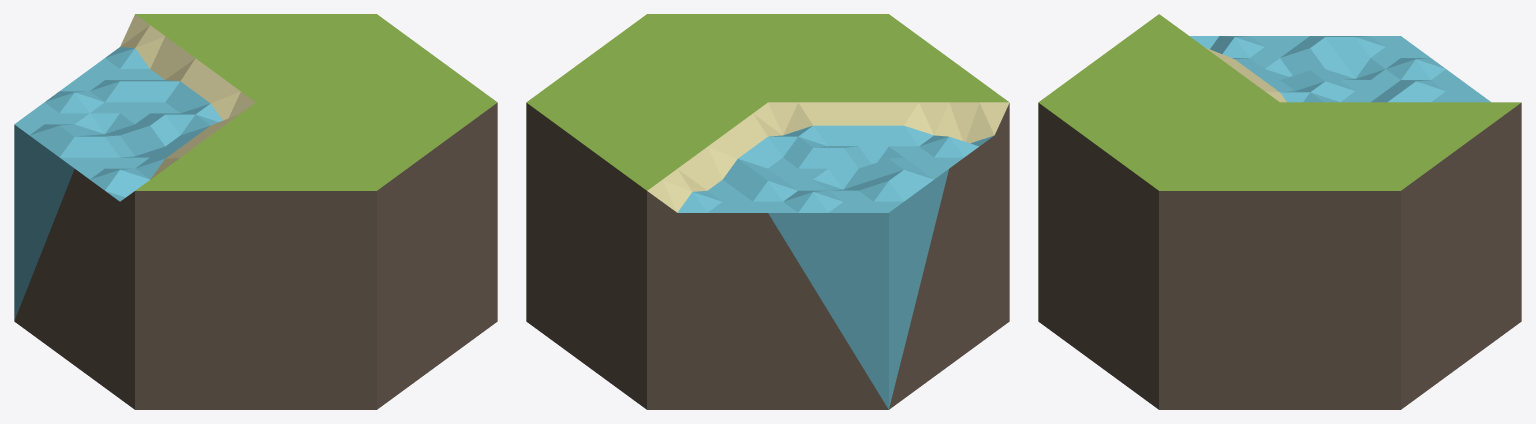
The model's file is coast4a.fbx.
3 views of the same model, side by side, from view 1: azimuth 30°, elevation 25°; view 2: azimuth 150°, elevation 25°; view 3: azimuth 270°, elevation 25° (orthographic).
Parts seen in each view (by area): view 1: Cylinder; view 2: Cylinder; view 3: Cylinder.
Boxes of the visible parts, x1,y1,x2,y2 form: Cylinder: [14, 14, 497, 409]; Cylinder: [526, 14, 1009, 409]; Cylinder: [1038, 14, 1521, 409].
Bounding box in the file's own units: 1.73 × 1 × 2.
